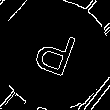P_S: (29, 25, 81, 85)
